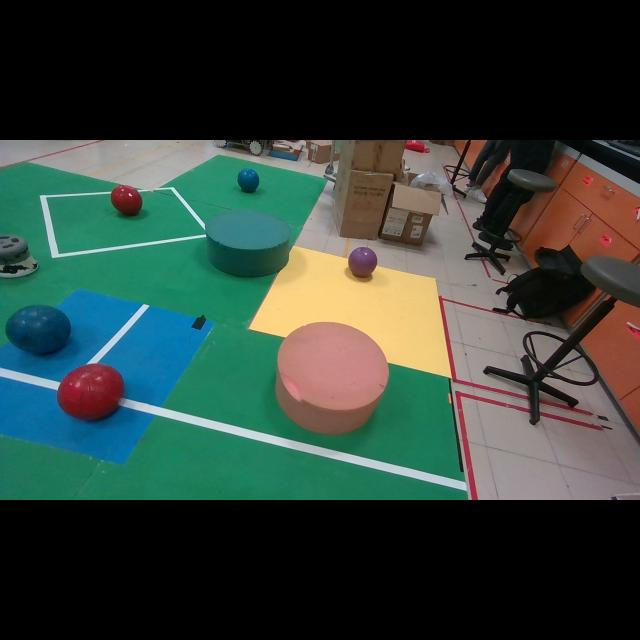B: (5, 305, 71, 354), (238, 168, 260, 192)
P: (349, 248, 378, 277)
R: (58, 364, 125, 419), (111, 185, 141, 216)
